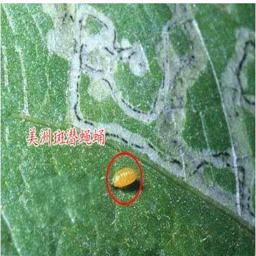liriomyza: (39, 2, 256, 226), (110, 165, 138, 188)
